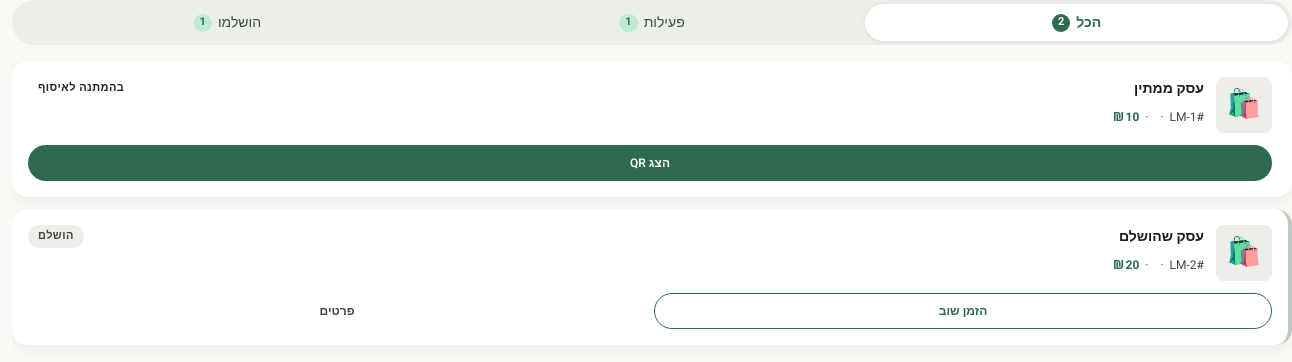
it: OrderHistoryList › the "פעילות" tab includes pending orders (not only active/ready)
This screenshot has width=1292, height=362.
What coordinates should you click on to do the following:
click the tab "פעילות 1"
I would click on:
 (652, 22)
Its box is [441,4,863,41].
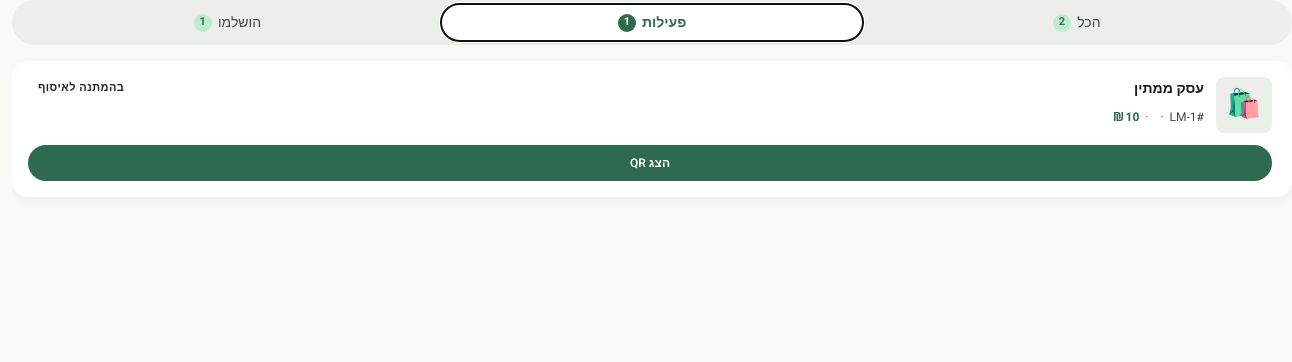
expect the heading "עסק ממתין" is shown: met, box [1134,78,1204,99]
expect the heading "עסק שהושלם" is gone: met
